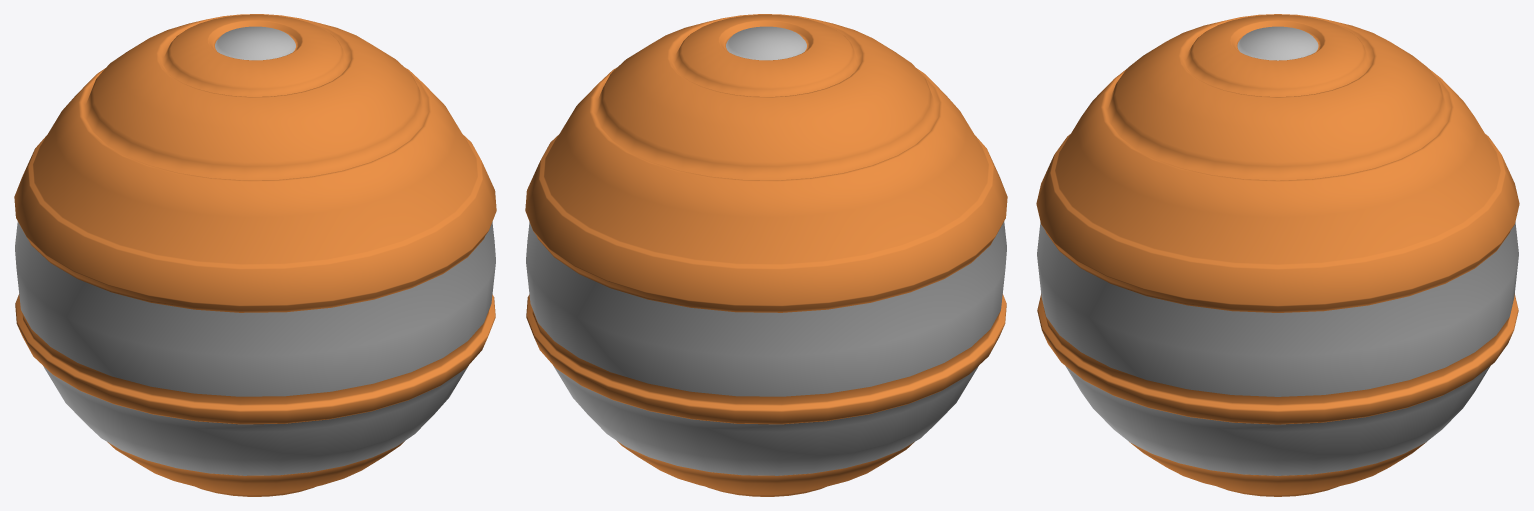
The model's file is FBX_Curse_Object_01.fbx.
3 views of the same model, side by side, from view 1: azimuth 30°, elevation 25°; view 2: azimuth 150°, elevation 25°; view 3: azimuth 270°, elevation 25° (orthographic).
Visible parts, largest first — view 1: Sphere; view 2: Sphere; view 3: Sphere.
Part boxes in pixels (x1,y1,x2,y2): Sphere: (14, 14, 496, 496); Sphere: (525, 14, 1007, 496); Sphere: (1036, 14, 1519, 496).
Bounding box in the file's own units: 36.1 × 35.76 × 36.1.
